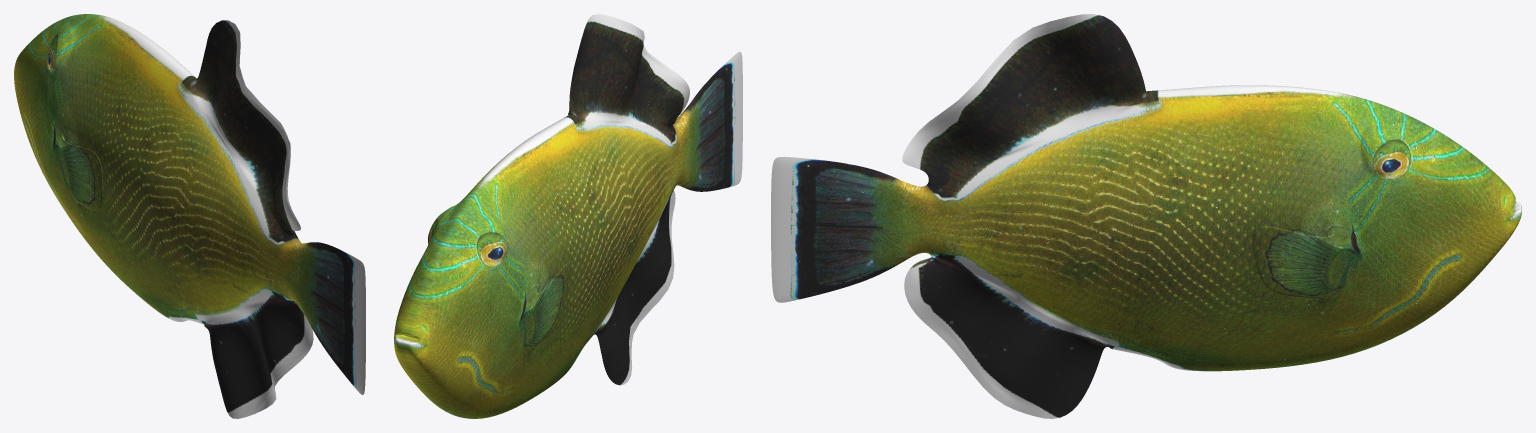
Rendered from Druecker.glb.
3 views of the same model, side by side, from view 1: azimuth 30°, elevation 25°; view 2: azimuth 150°, elevation 25°; view 3: azimuth 270°, elevation 25° (orthographic). The views are drawn at different scales.
Parts seen in each view (by area): view 1: Druecker_poly; view 2: Druecker_poly; view 3: Druecker_poly.
Boxes of the visible parts, x1,y1,x2,y2 form: Druecker_poly: [14, 14, 365, 418]; Druecker_poly: [394, 14, 742, 418]; Druecker_poly: [771, 14, 1521, 418].
Bounding box in the file's own units: 0.0472 × 0.1772 × 0.2909.
1 material, 1 textured.
